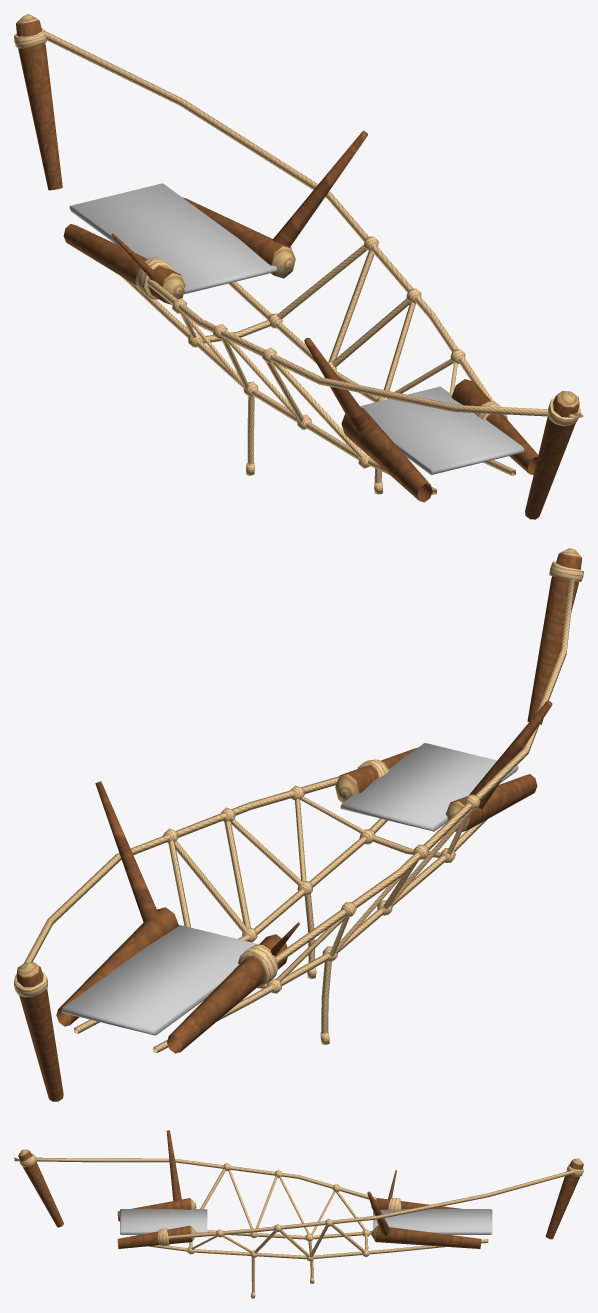
The model's file is Bridge3.fbx.
The picture shows the model from 3 angles, top to bottom: view 1: azimuth 30°, elevation 25°; view 2: azimuth 150°, elevation 25°; view 3: azimuth 270°, elevation 25°; orthographic projection. The views are drawn at different scales.
Visible parts, largest first — view 1: polySurface1148; view 2: polySurface1148; view 3: polySurface1148.
Part boxes in pixels (left/top/right/bottom): polySurface1148: left=14, top=14, right=583, bottom=519; polySurface1148: left=14, top=548, right=583, bottom=1101; polySurface1148: left=14, top=1130, right=583, bottom=1298.
Bounding box in the file's own units: 42.46 × 43.67 × 158.
